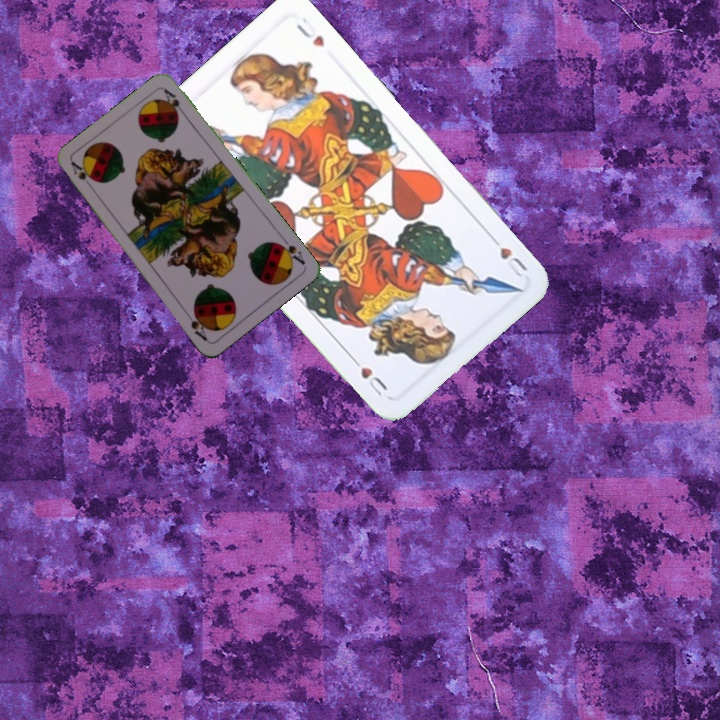HU: (485, 230, 530, 280)
SA: (273, 233, 308, 268), (67, 158, 97, 193)
